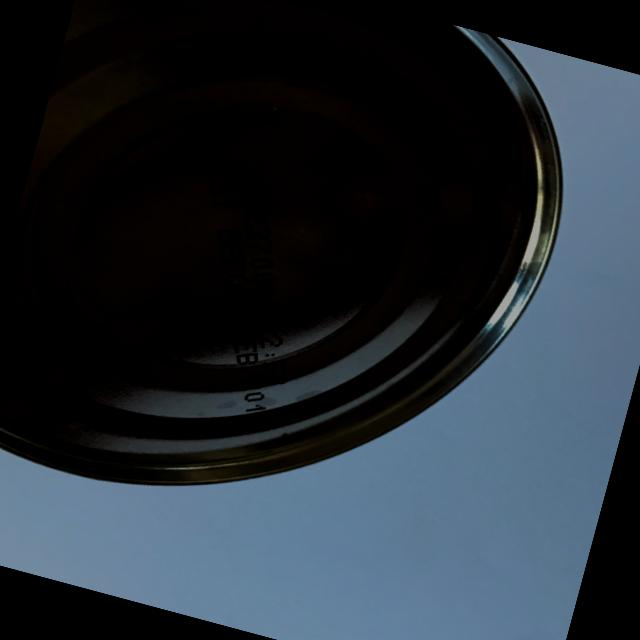Metal: (0, 0, 617, 600)
